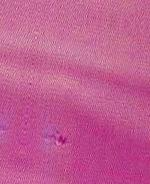knot: (51, 132, 69, 148)
